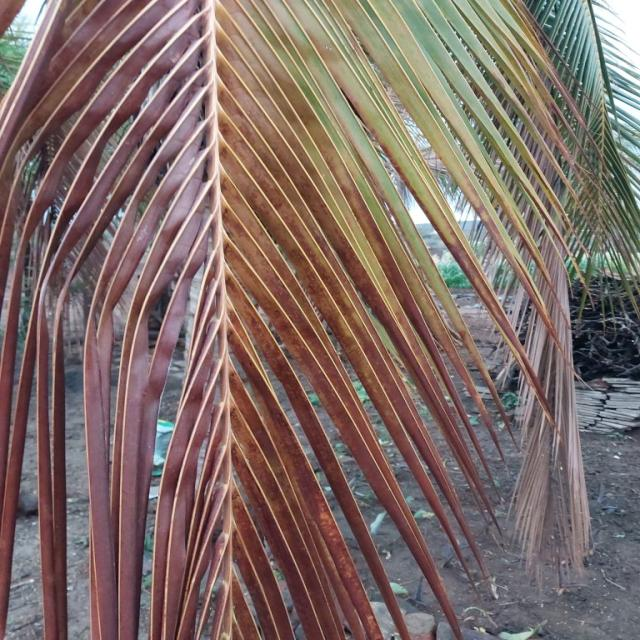gray leaf spot: (26, 14, 232, 614)
